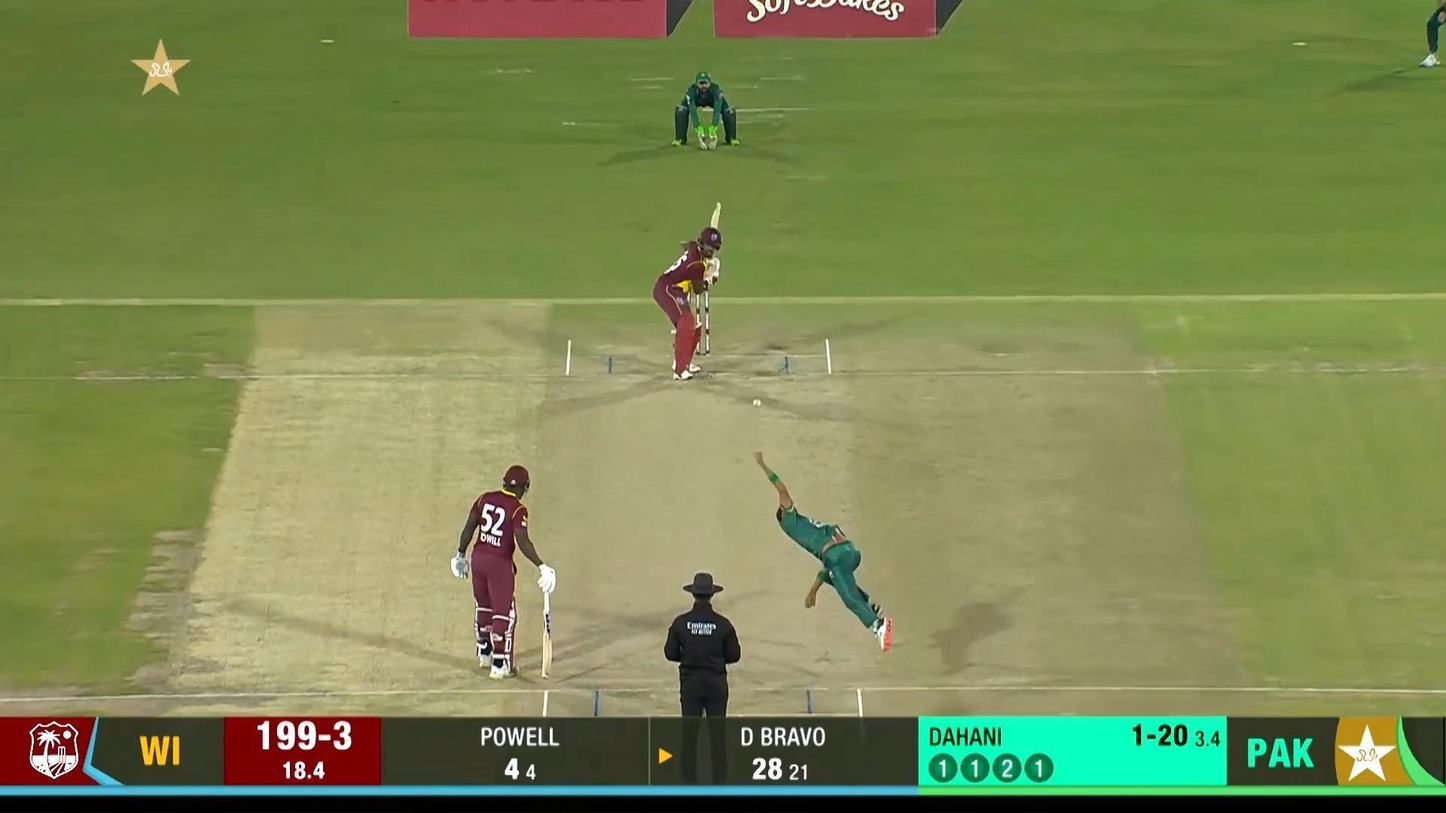BM 1: (652, 201, 723, 381)
BO: (751, 449, 895, 654)
